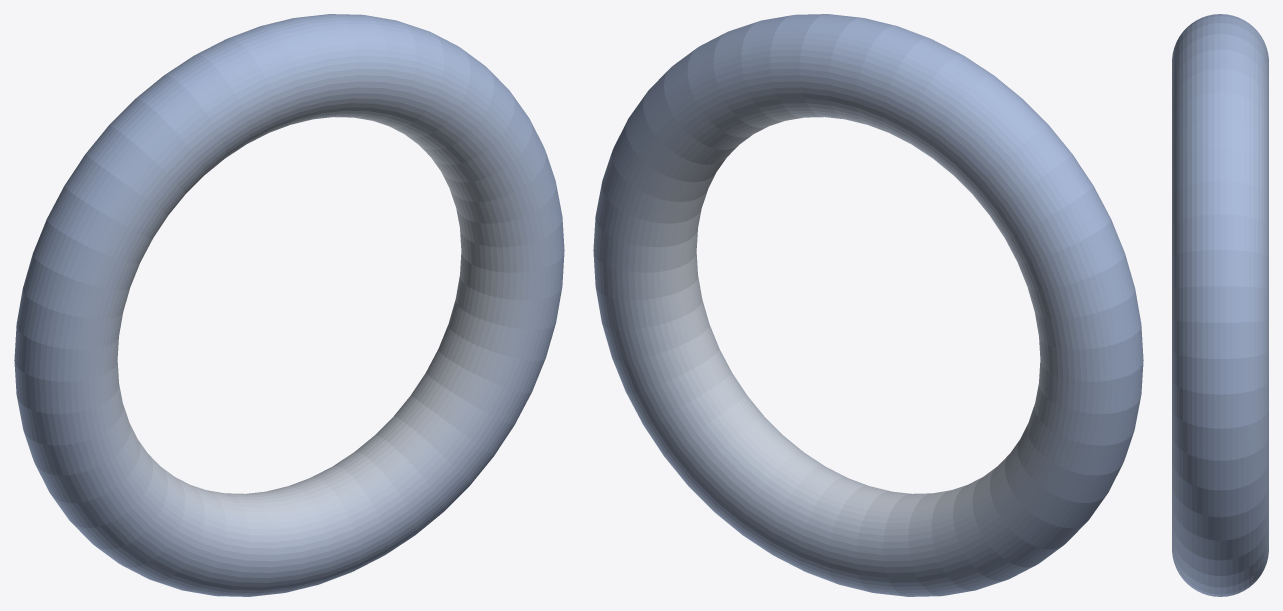
The picture shows the model from 3 angles, left to right: view 1: azimuth 30°, elevation 25°; view 2: azimuth 150°, elevation 25°; view 3: azimuth 270°, elevation 25°; orthographic projection. The views are drawn at different scales.
Parts seen in each view (by area): view 1: world; view 2: world; view 3: world.
Boxes of the visible parts, x1,y1,x2,y2 form: world: (14,14,564,596); world: (593,14,1143,596); world: (1172,14,1268,596).
Bounding box in the file's own units: 26.4 × 26.35 × 4.39.
